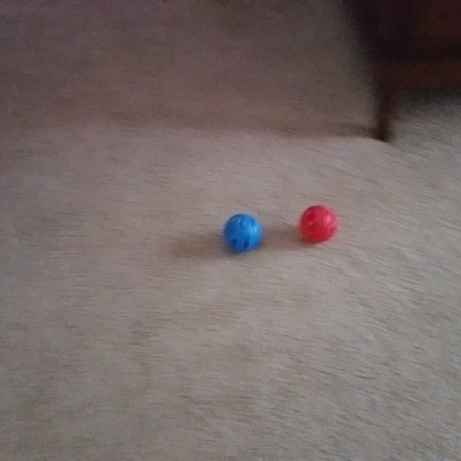ball: (218, 210, 266, 258), (294, 203, 341, 249)
